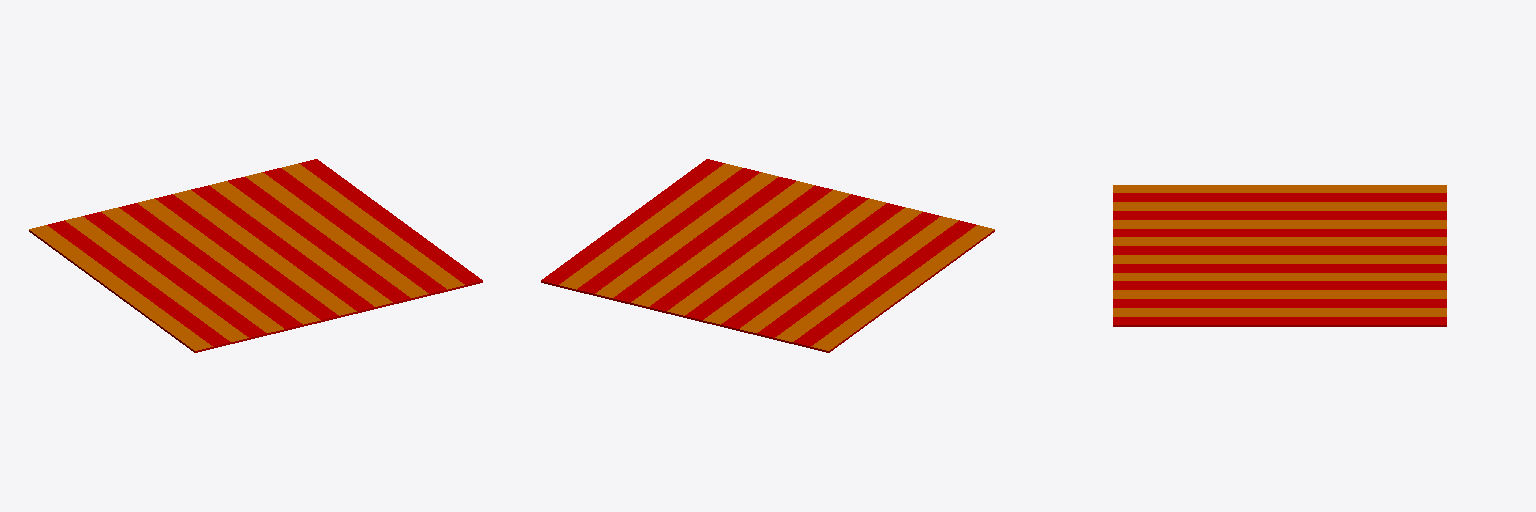
Rendered from floor.obj.
3 views of the same model, side by side, from view 1: azimuth 30°, elevation 25°; view 2: azimuth 150°, elevation 25°; view 3: azimuth 270°, elevation 25° (orthographic).
Visible parts, largest first — view 1: Cube; view 2: Cube; view 3: Cube.
Part boxes in pixels (bbox=[...]): Cube: bbox=[29, 159, 482, 352]; Cube: bbox=[541, 159, 994, 352]; Cube: bbox=[1113, 185, 1446, 326].
Bounding box in the file's own units: 30 × 0.2 × 30.